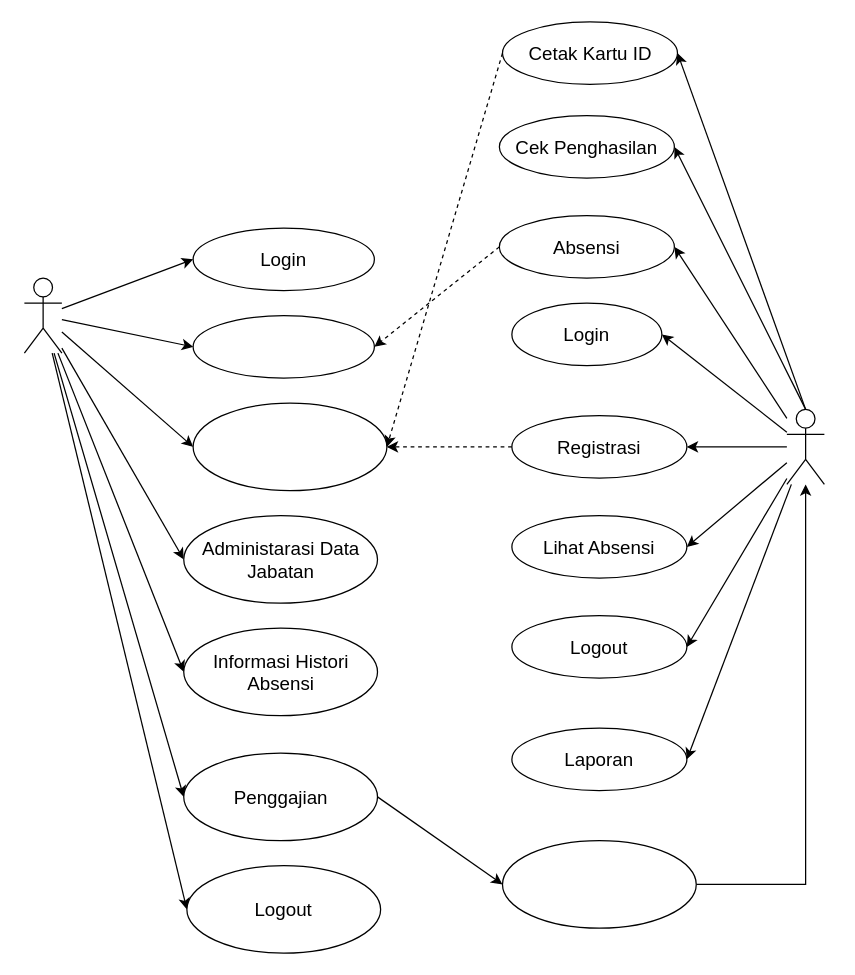
The diagram is 855 pixels wide and 975 high, and some of its shapes have lost their labels. The box of each missing label's shape, as (x1, y1, x2, y2) in pixels:
Absensi Pegawai: (192, 314, 374, 378)
Admin: (23, 277, 62, 353)
Administarasi Data Pegawai: (192, 402, 387, 491)
Menerima Slip Gaji: (501, 839, 696, 928)
Pegawai: (786, 408, 824, 484)
